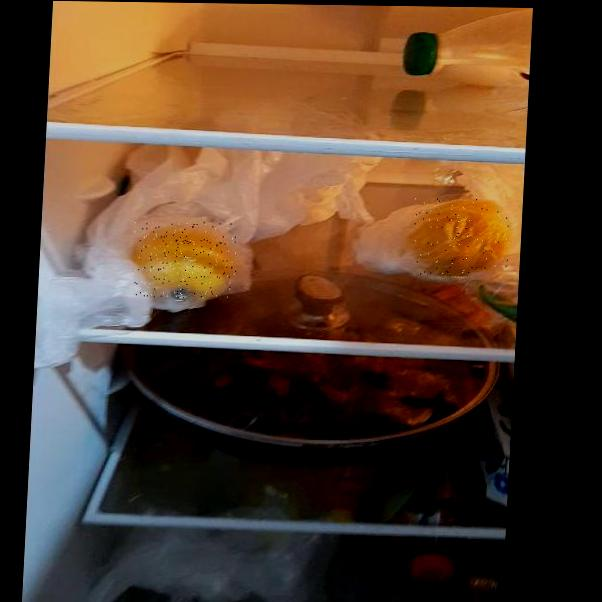lemon: (131, 221, 239, 299), (411, 198, 513, 277)
